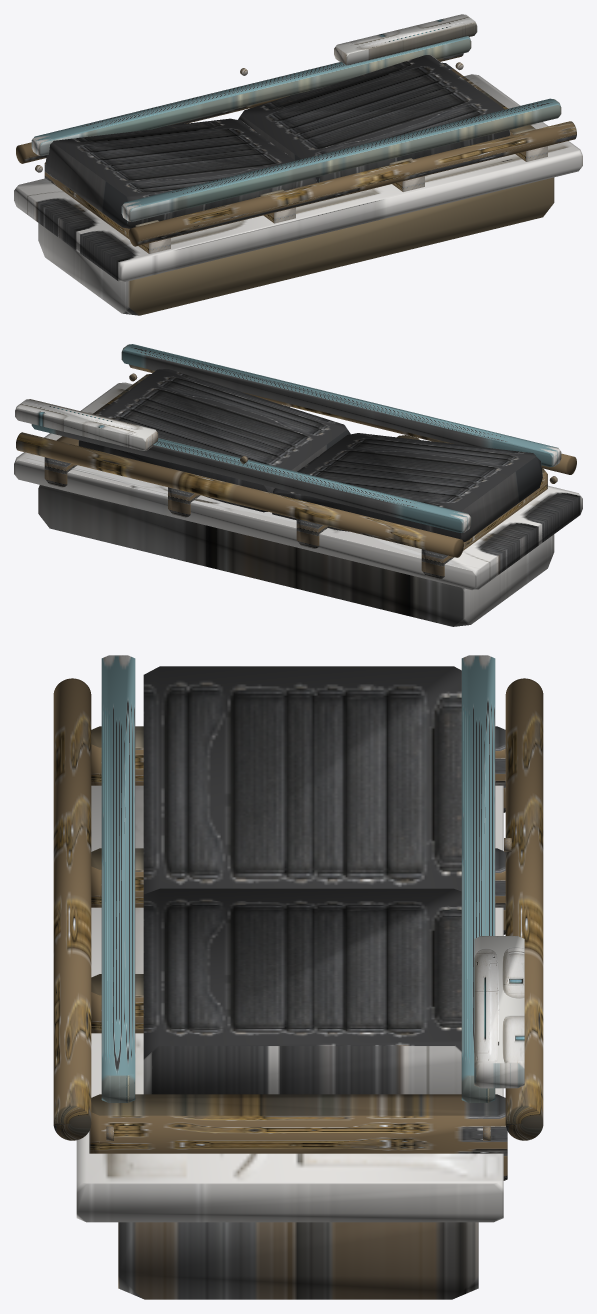
Rendered from room_l5_v3_bio_recline_couch.glb.
3 views of the same model, one above another, from view 1: azimuth 30°, elevation 25°; view 2: azimuth 150°, elevation 25°; view 3: azimuth 270°, elevation 25° (orthographic). The views are drawn at different scales.
Visible parts, largest first — view 1: white_ceramic_lower_shell, graphite_low_recline_frame, seat_pad, back_pad, black_side_gasket_0.43, long_brass_side_rail_0.54, black_side_gasket_-0.43, cyan_status_slit_front, brass_pad_clamp_-1.04, long_brass_side_rail_-0.54, brass_pad_clamp_1.04; view 2: graphite_low_recline_frame, white_ceramic_lower_shell, back_pad, seat_pad, black_side_gasket_0.43, long_brass_side_rail_-0.54, black_side_gasket_-0.43, cyan_status_slit_front, brass_pad_clamp_-1.04, long_brass_side_rail_0.54, brass_pad_clamp_1.04, brass_pad_clamp_-0.35 (+1 smaller); view 3: back_pad, seat_pad, white_ceramic_lower_shell, graphite_low_recline_frame, brass_pad_clamp_1.04, long_brass_side_rail_0.54, black_side_gasket_0.43, long_brass_side_rail_-0.54, black_side_gasket_-0.43, cyan_status_slit_front, brass_pad_clamp_-1.04, brass_pad_clamp_-0.35 (+1 smaller).
Part boxes in pixels (<box>): white_ceramic_lower_shell: <box>14,74,582,281</box>; graphite_low_recline_frame: <box>38,177,554,315</box>; seat_pad: <box>238,55,510,182</box>; back_pad: <box>45,118,317,228</box>; black_side_gasket_0.43: <box>121,98,561,221</box>; long_brass_side_rail_0.54: <box>129,121,576,246</box>; black_side_gasket_-0.43: <box>31,36,471,155</box>; cyan_status_slit_front: <box>334,14,477,64</box>; brass_pad_clamp_-1.04: <box>44,162,170,253</box>; long_brass_side_rail_-0.54: <box>16,53,463,163</box>; brass_pad_clamp_1.04: <box>442,62,547,161</box>; graphite_low_recline_frame: <box>38,485,554,626</box>; white_ceramic_lower_shell: <box>14,382,582,590</box>; back_pad: <box>272,433,542,541</box>; seat_pad: <box>78,369,350,512</box>; black_side_gasket_0.43: <box>121,344,561,466</box>; long_brass_side_rail_-0.54: <box>16,432,463,557</box>; black_side_gasket_-0.43: <box>31,424,471,532</box>; cyan_status_slit_front: <box>15,399,158,450</box>; brass_pad_clamp_-1.04: <box>421,468,547,579</box>; long_brass_side_rail_0.54: <box>129,364,576,474</box>; brass_pad_clamp_1.04: <box>44,374,150,487</box>; brass_pad_clamp_-0.35: <box>296,435,419,548</box>; back_pad: <box>143,666,461,894</box>; seat_pad: <box>143,888,461,1094</box>; white_ceramic_lower_shell: <box>76,785,503,1222</box>; graphite_low_recline_frame: <box>118,1222,478,1299</box>; brass_pad_clamp_1.04: <box>89,1094,507,1180</box>; long_brass_side_rail_0.54: <box>53,678,91,1140</box>; black_side_gasket_0.43: <box>101,655,135,1102</box>; long_brass_side_rail_-0.54: <box>505,678,543,1140</box>; black_side_gasket_-0.43: <box>461,655,495,1102</box>; cyan_status_slit_front: <box>474,936,524,1088</box>; brass_pad_clamp_-1.04: <box>91,726,505,812</box>; brass_pad_clamp_-0.35: <box>91,848,505,934</box>.
Size of the model in its own units: 2.55 by 0.667 by 1.17.
8 materials, 8 textured.
